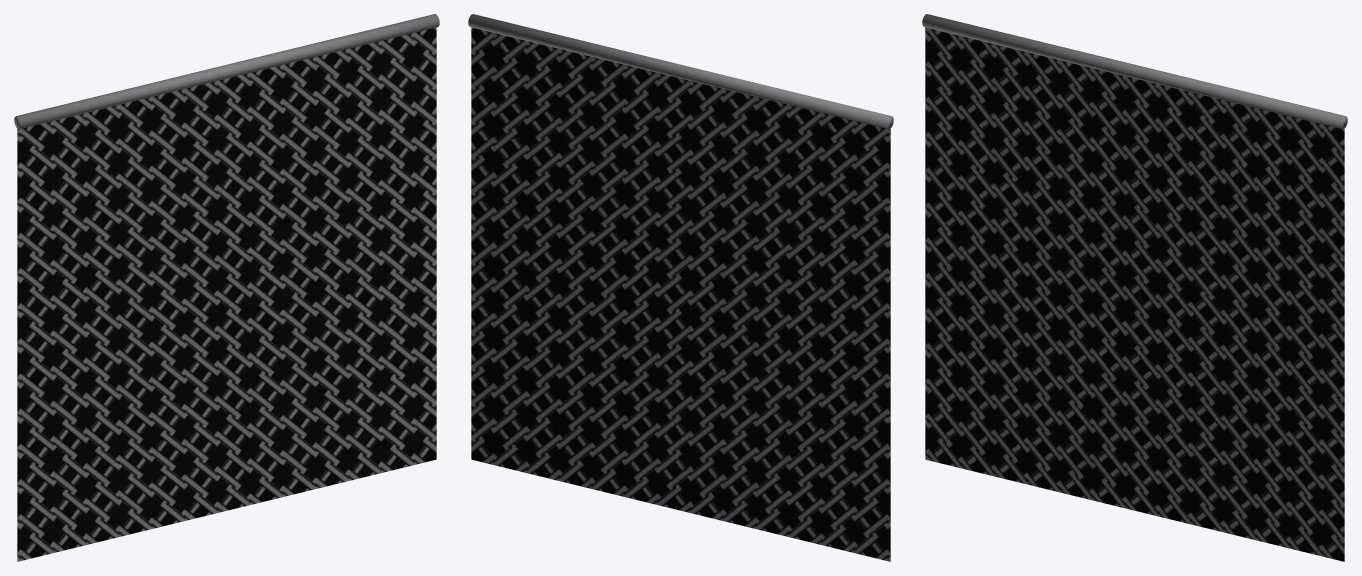
File: fence.fbx
3 renders of one model, left to right at view 1: azimuth 30°, elevation 25°; view 2: azimuth 150°, elevation 25°; view 3: azimuth 330°, elevation 25°, orthographic.
Parts seen in each view (by area): view 1: Fence; view 2: Fence; view 3: Fence.
Boxes of the visible parts, x1,y1,x2,y2 form: Fence: [14, 14, 439, 561]; Fence: [468, 14, 893, 561]; Fence: [922, 14, 1347, 561].
Size of the model in its own units: 200 by 203 by 5.57.
